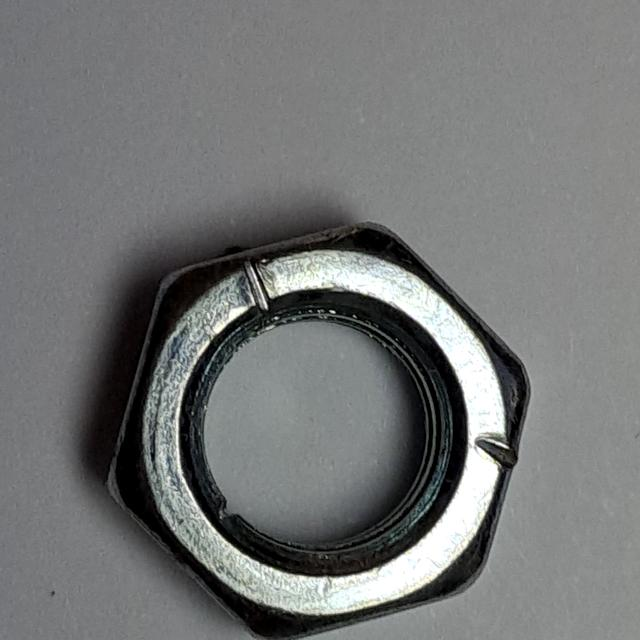Scratches: (85, 211, 542, 640)
